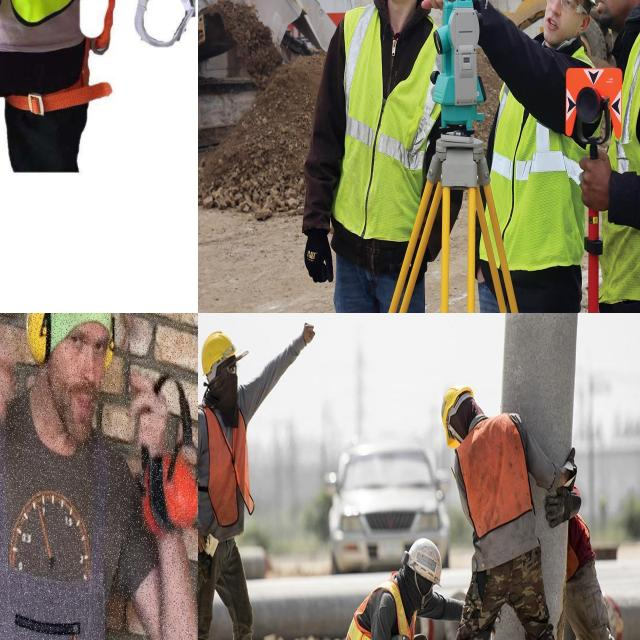Ear-protection: (22, 313, 59, 374)
Harness: (128, 0, 198, 59)
face_nomask: (536, 0, 583, 48), (579, 0, 634, 24)
glasses: (543, 0, 581, 16)
hand_glove: (286, 215, 340, 302), (545, 487, 570, 537)
hand_noglove: (570, 152, 620, 222), (300, 313, 318, 349), (421, 0, 458, 16), (198, 528, 210, 560)
head_helmet: (439, 386, 476, 448), (400, 536, 444, 588), (201, 329, 236, 373)
person: (329, 0, 445, 313), (437, 385, 570, 640), (198, 314, 298, 640), (483, 0, 584, 313), (587, 0, 640, 313), (340, 536, 452, 640)
vest: (484, 18, 596, 268), (336, 11, 436, 252), (586, 34, 640, 312), (453, 421, 545, 535), (198, 398, 257, 547), (348, 580, 416, 640)
